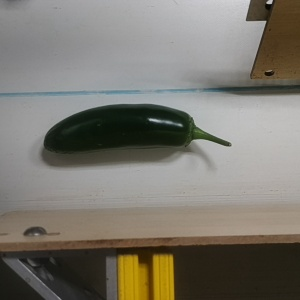Cut Point: (174, 109, 201, 148)
